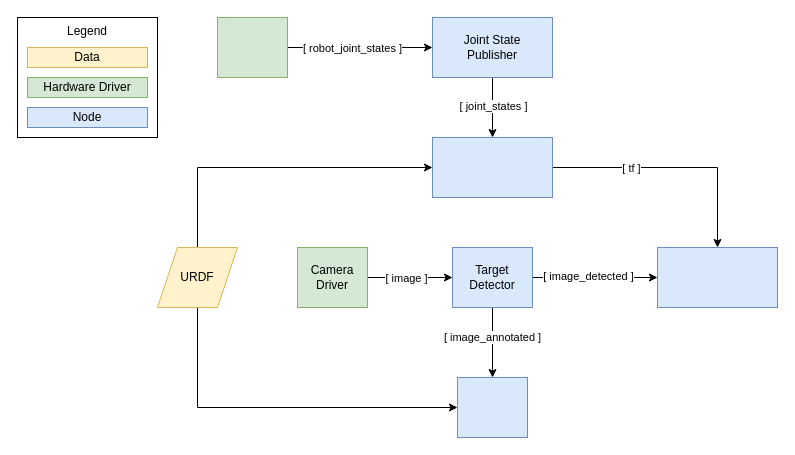
Image size: 795x455. Some labels were removed from this diagram. Each missing label, with the centre of its shape:
"Calibration Data Collector" belongs at point 717,277.
"Robot Driver" belongs at point 252,47.
"Robot State Publisher" belongs at point 492,167.
"rviz" belongs at point 492,407.
